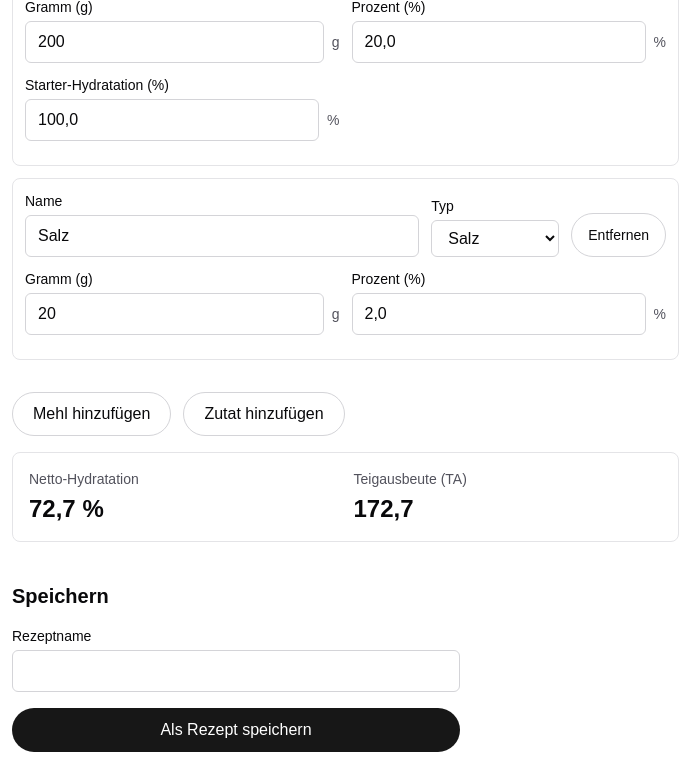
F010 Speichern im Konto (angemeldet, online) › F010/AC-8 speichert das Rezept in der angezeigten Reihenfolge inklusive neuer Zeilen
The width and height of the screenshot is (696, 768).
(page scrolled)
Click the button "Zutat hinzufügen" at (264, 414), box [183,392,345,436]
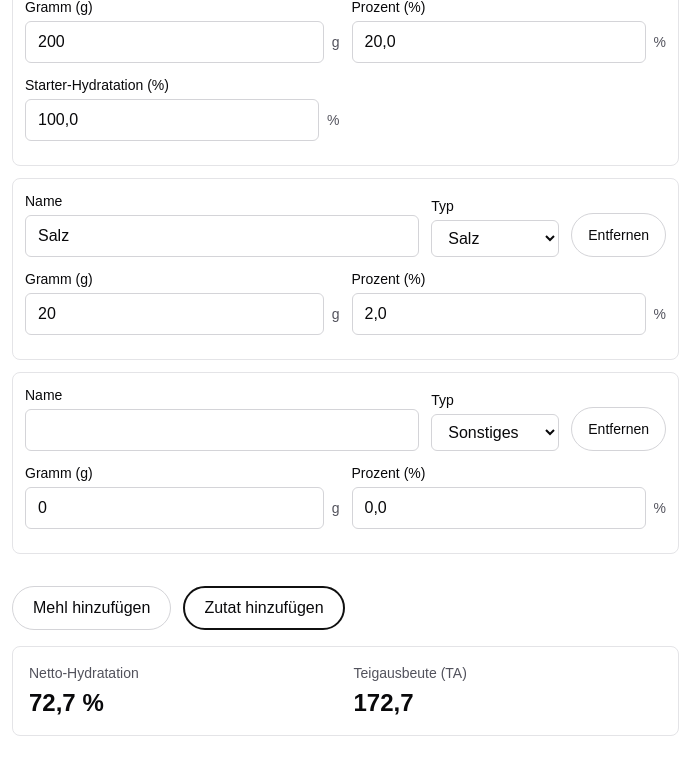
Type "Saaten" into the 2nd field labelled "Name" at (222, 430), box [25,409,419,451]
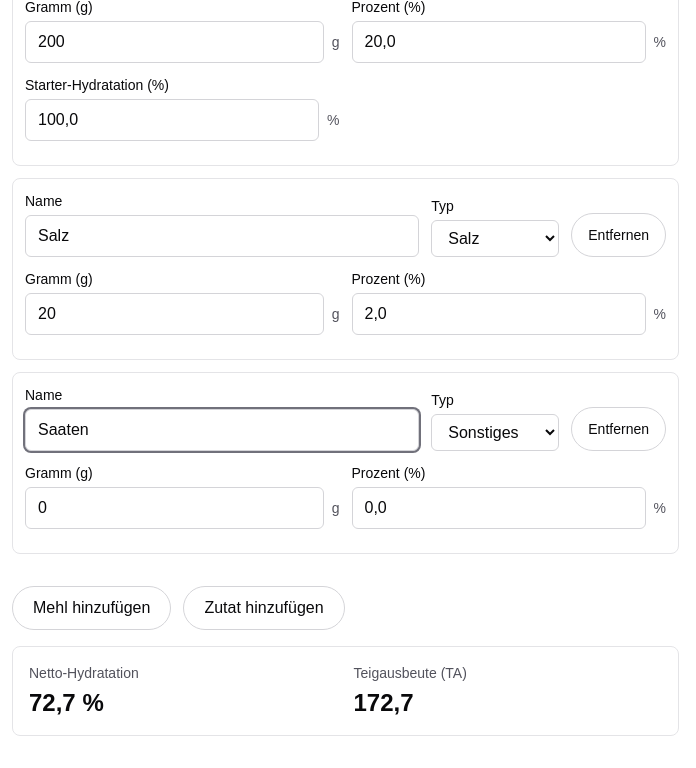
Replace the text in the 3rd field labelled "Prozent (%)" with "5" at (498, 508), box [352,487,646,529]
(page scrolled)
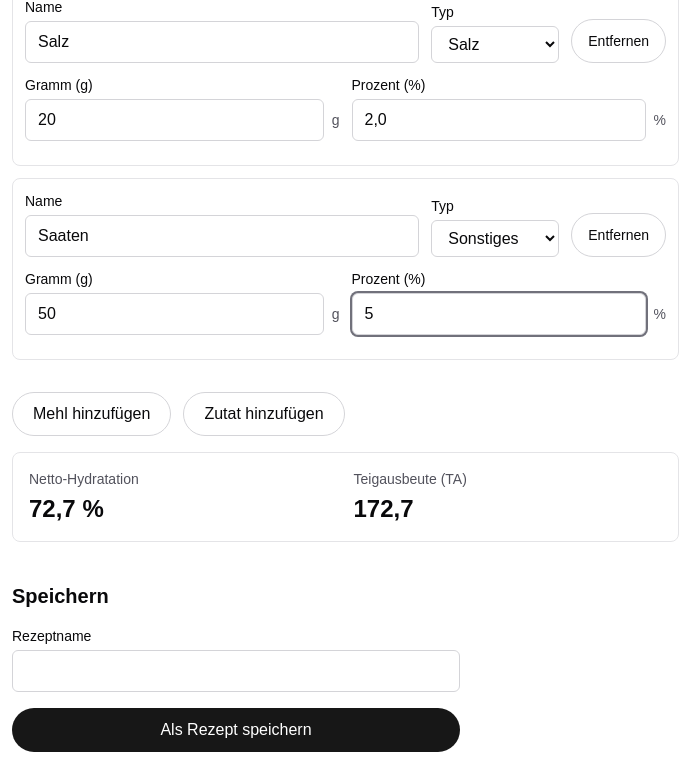
Type "  Landbrot " into the field labelled "Rezeptname" at (236, 671), box [12,650,460,692]
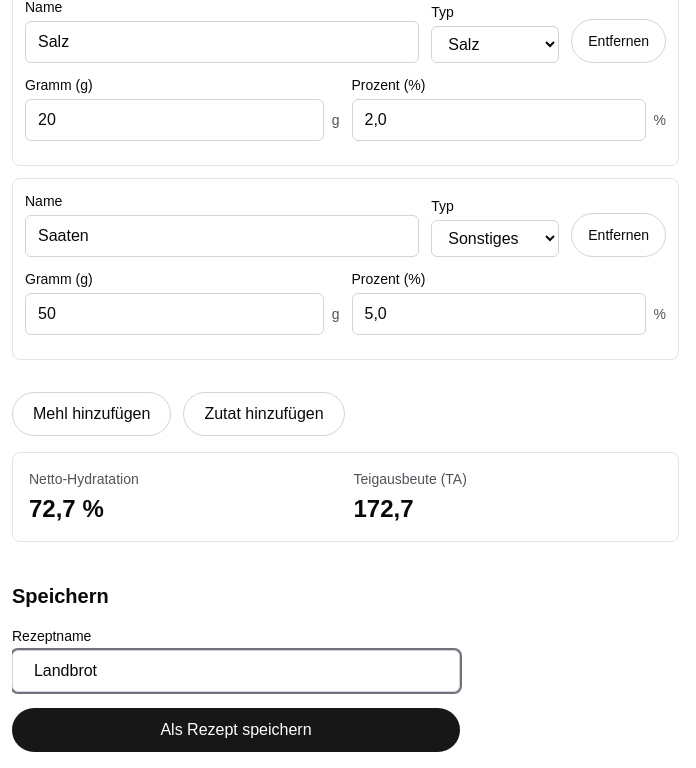
Click the button "Als Rezept speichern" at (236, 730), box [12,708,460,752]
(page scrolled)
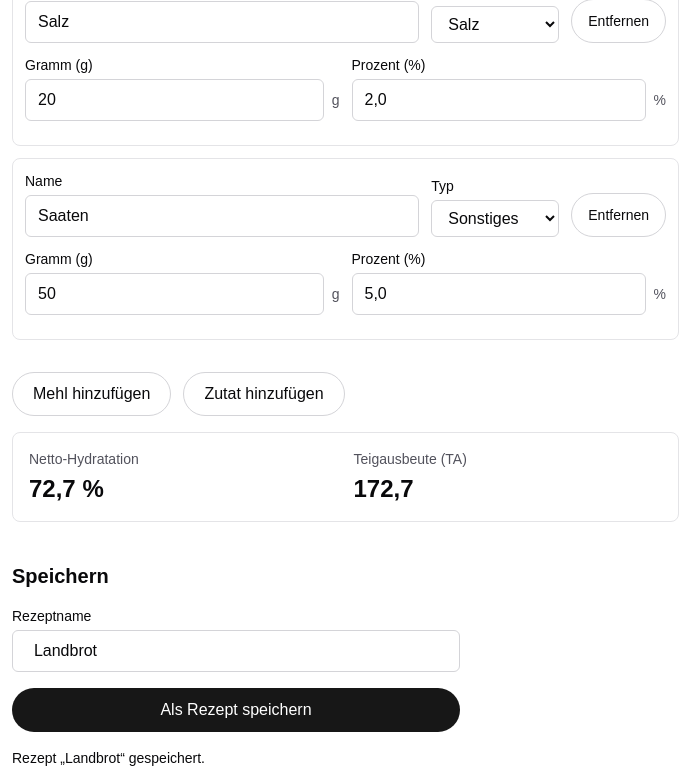
Now the text "Rezept „Landbrot“ gespeichert." is shown, box [12,750,205,766]
